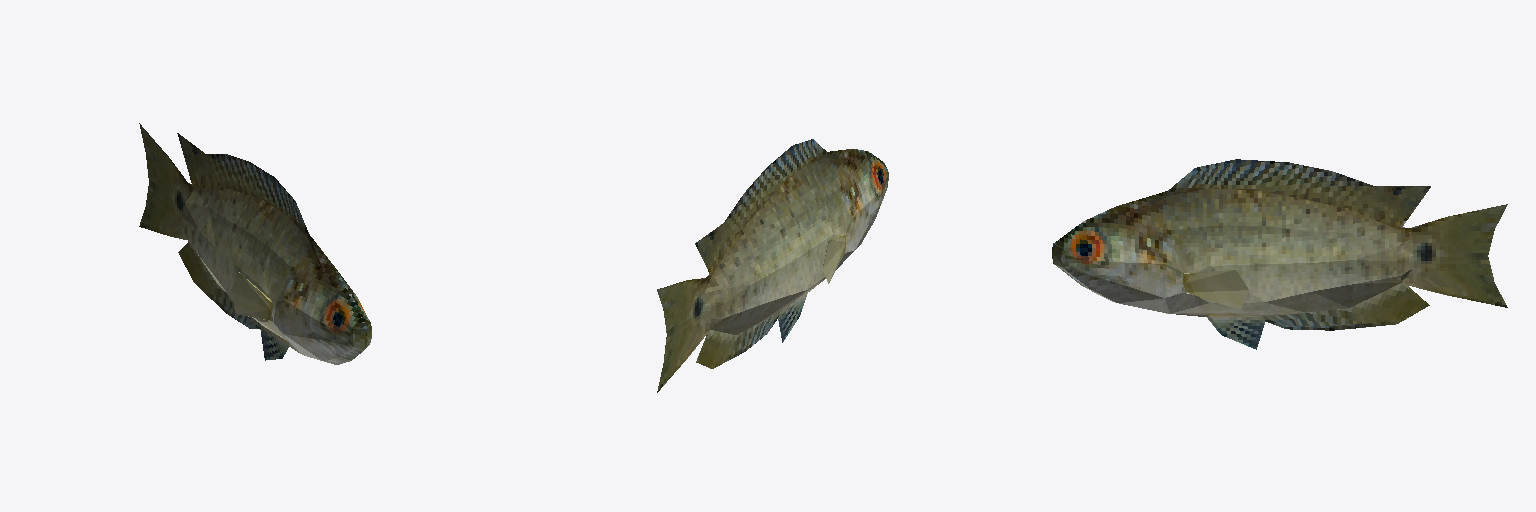
3 renders of one model, left to right at view 1: azimuth 30°, elevation 25°; view 2: azimuth 150°, elevation 25°; view 3: azimuth 270°, elevation 25°, orthographic.
Parts seen in each view (by area): view 1: FISH_Plane.002; view 2: FISH_Plane.002; view 3: FISH_Plane.002.
Part boxes in pixels (x1,y1,x2,y2): FISH_Plane.002: (139, 123, 371, 364); FISH_Plane.002: (657, 139, 888, 392); FISH_Plane.002: (1052, 159, 1507, 349).
Size of the model in its own units: 2.03 by 4.58 by 9.92.
Materials: 1 (1 with a texture image).